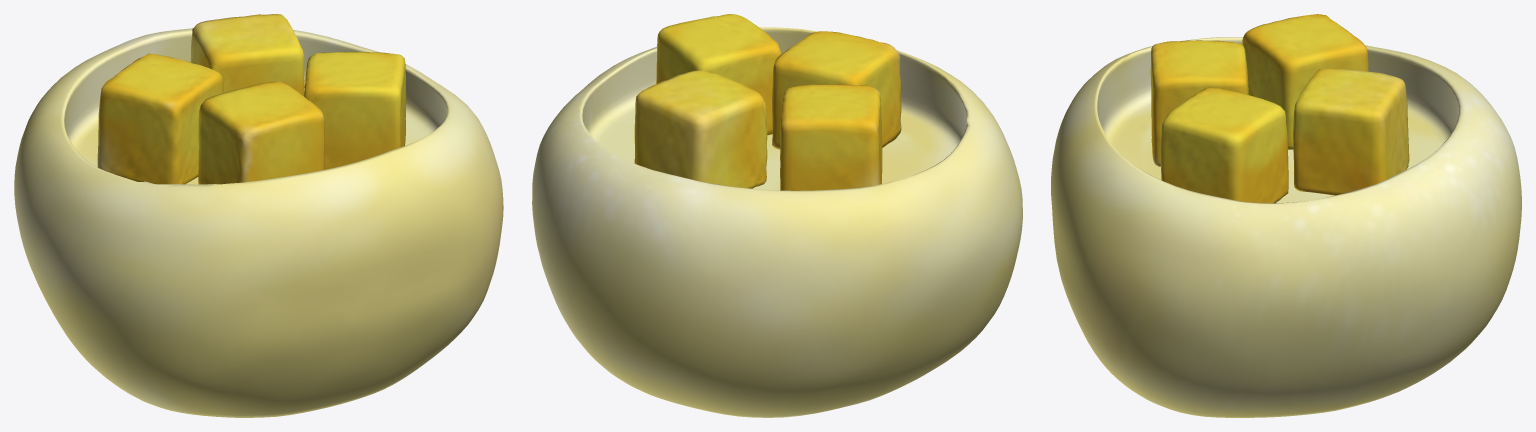
3 views of the same model, side by side, from view 1: azimuth 30°, elevation 25°; view 2: azimuth 150°, elevation 25°; view 3: azimuth 270°, elevation 25° (orthographic).
Visible parts, largest first — view 1: default1_8; view 2: default1_8; view 3: default1_8.
Boxes of the visible parts, left/top/right/bottom form: default1_8: left=14, top=14, right=503, bottom=417; default1_8: left=532, top=14, right=1022, bottom=417; default1_8: left=1051, top=14, right=1521, bottom=417.
Bounding box in the file's own units: 0.8254 × 0.5234 × 0.796.
1 material, 1 textured.
